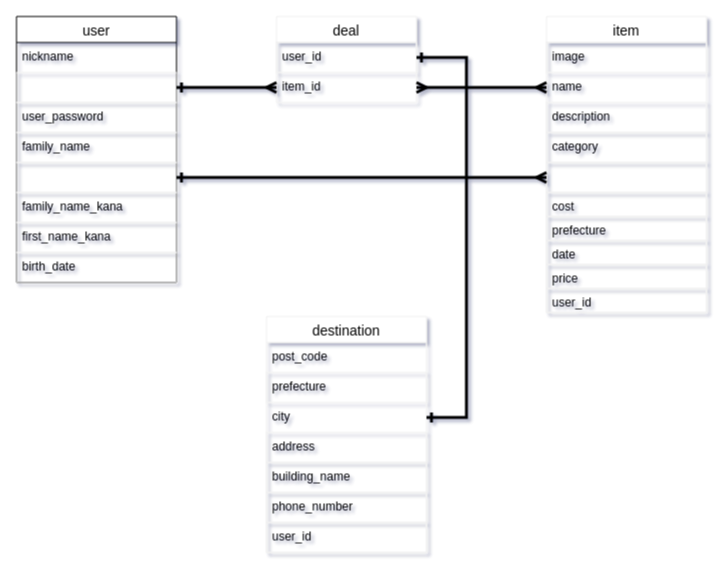
Image size: 723x569. Some labels were removed from this diagram. Here are the shapes that lost their labels. From the top down, the centre of each, then its label:
At (x=96, y=87): "email".
At (x=96, y=177): "first_name".
At (x=626, y=177): "condition".
